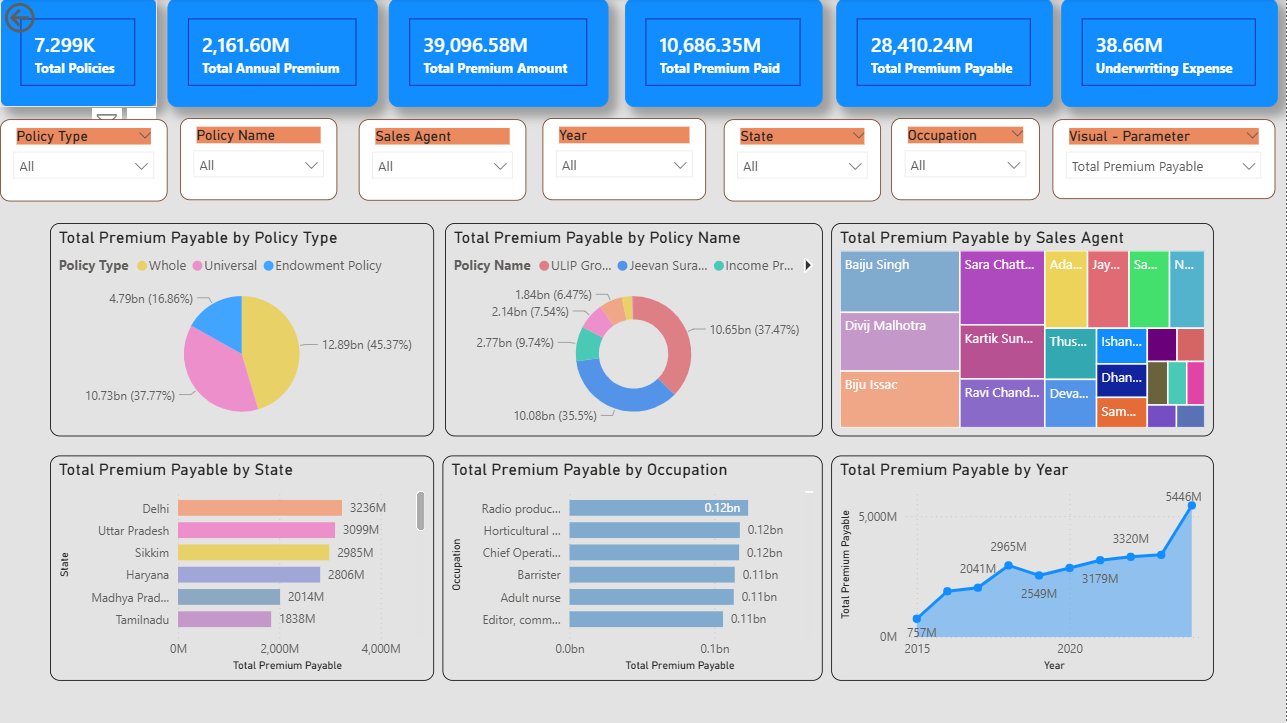

The dashboard page shown, as its layout file describes it:
{"tool":"powerbi","page":{"name":"Insurance Overview","canvas":[1302,745],"ordinal":3},"visuals":[{"type":"cardVisual","fields":{"Data":["CountNonNull(DM Customer_Detail_Table.Customer ID)"]},"box":[0,0,159,110.1],"z":0},{"type":"cardVisual","fields":{"Data":["Sum(FCT Insurance_Policy_Table.Total Annual Premium)"]},"box":[170,0,212.8,110.1],"z":1000},{"type":"cardVisual","fields":{"Data":["Sum(FCT Insurance_Policy_Table.Total Premium Amount)"]},"box":[393.5,0,222.7,110.1],"z":2000},{"type":"cardVisual","fields":{"Data":["Sum(FCT Insurance_Policy_Table.Total Premium Paid)"]},"box":[632.6,0,199.9,110.1],"z":3000},{"type":"cardVisual","fields":{"Data":["Sum(FCT Insurance_Policy_Table.Total Premium Payable)"]},"box":[846.5,0,218.9,110.1],"z":4000},{"type":"cardVisual","fields":{"Data":["FCT Insurance_Policy_Table.Underwriting Expense"]},"box":[1074.2,0,218.9,110.1],"z":5000},{"type":"actionButton","box":[0,0,100,40],"z":6000},{"type":"slicer","fields":{"Values":["DM Policy_Type.Policy Type"]},"box":[0,122.7,169.5,83.5],"z":7000},{"type":"slicer","fields":{"Values":["DM Policy_Protection_Plan.Policy Name"]},"box":[182.2,121.5,159.4,83.5],"z":8000},{"type":"slicer","fields":{"Values":["DM Insurance_Agent_Table.Sales Agent"]},"box":[363.1,122.7,169.5,82.2],"z":9000},{"type":"slicer","fields":{"Values":["FCT Insurance_Policy_Table.Start Date.Variation.Date Hierarchy.Year"]},"box":[549.1,121.5,165.8,83.5],"z":10000},{"type":"slicer","fields":{"Values":["DM Customer_Detail_Table.State"]},"box":[732.6,122.7,159.4,83.5],"z":11000},{"type":"slicer","fields":{"Values":["DM Customer_Detail_Table.Occupation"]},"box":[902.2,121.5,150.6,83.5],"z":12000},{"type":"pieChart","fields":{"Y":["FCT Insurance_Policy_Table.Total Premium_payable"],"Category":["DM Policy_Type.Policy Type"]},"box":[50.6,227.8,388.4,216.4],"z":13000},{"type":"donutChart","fields":{"Y":["FCT Insurance_Policy_Table.Total Premium_payable"],"Category":["DM Policy_Protection_Plan.Policy Name"]},"box":[450.4,227.8,382.1,216.4],"z":14000},{"type":"treemap","fields":{"Values":["FCT Insurance_Policy_Table.Total Premium_payable"],"Group":["DM Insurance_Agent_Table.Sales Agent"]},"box":[841.4,227.8,387.2,216.4],"z":15000},{"type":"barChart","fields":{"Y":["FCT Insurance_Policy_Table.Total Premium_payable"],"Category":["DM Customer_Detail_Table.State"]},"box":[50.6,463.1,388.4,227.8],"z":16000},{"type":"barChart","fields":{"Y":["FCT Insurance_Policy_Table.Total Premium_payable"],"Category":["DM Customer_Detail_Table.Occupation"]},"box":[447.9,463.1,384.6,227.8],"z":17000},{"type":"areaChart","fields":{"Y":["FCT Insurance_Policy_Table.Total Premium_payable"],"Category":["FCT Insurance_Policy_Table.Start Date.Variation.Date Hierarchy.Year"]},"box":[841.4,463.1,387.2,227.8],"z":18000},{"type":"slicer","fields":{"Values":["Visual - Parameter.Visual - Parameter"]},"box":[1065.4,122.7,225.2,81],"z":19000}]}

Visuals, with their boxes in screenshot pixels (x1, y1, x2, y2), scaled from the page's 1302x745 canvas onto the 1287x723 screenshot:
cardVisual - CountNonNull(DM Customer_Detail_Table.Customer ID): (0,0,157,107)
cardVisual - Sum(FCT Insurance_Policy_Table.Total Annual Premium): (168,0,378,107)
cardVisual - Sum(FCT Insurance_Policy_Table.Total Premium Amount): (389,0,609,107)
cardVisual - Sum(FCT Insurance_Policy_Table.Total Premium Paid): (625,0,823,107)
cardVisual - Sum(FCT Insurance_Policy_Table.Total Premium Payable): (837,0,1053,107)
cardVisual - FCT Insurance_Policy_Table.Underwriting Expense: (1062,0,1278,107)
actionButton: (0,0,99,39)
slicer - DM Policy_Type.Policy Type: (0,119,168,200)
slicer - DM Policy_Protection_Plan.Policy Name: (180,118,338,199)
slicer - DM Insurance_Agent_Table.Sales Agent: (359,119,526,199)
slicer - FCT Insurance_Policy_Table.Start Date.Variation.Date Hierarchy.Year: (543,118,707,199)
slicer - DM Customer_Detail_Table.State: (724,119,882,200)
slicer - DM Customer_Detail_Table.Occupation: (892,118,1041,199)
pieChart - FCT Insurance_Policy_Table.Total Premium_payable x DM Policy_Type.Policy Type: (50,221,434,431)
donutChart - FCT Insurance_Policy_Table.Total Premium_payable x DM Policy_Protection_Plan.Policy Name: (445,221,823,431)
treemap - FCT Insurance_Policy_Table.Total Premium_payable x DM Insurance_Agent_Table.Sales Agent: (832,221,1214,431)
barChart - FCT Insurance_Policy_Table.Total Premium_payable x DM Customer_Detail_Table.State: (50,449,434,670)
barChart - FCT Insurance_Policy_Table.Total Premium_payable x DM Customer_Detail_Table.Occupation: (443,449,823,670)
areaChart - FCT Insurance_Policy_Table.Total Premium_payable x FCT Insurance_Policy_Table.Start Date.Variation.Date Hierarchy.Year: (832,449,1214,670)
slicer - Visual - Parameter.Visual - Parameter: (1053,119,1276,198)
